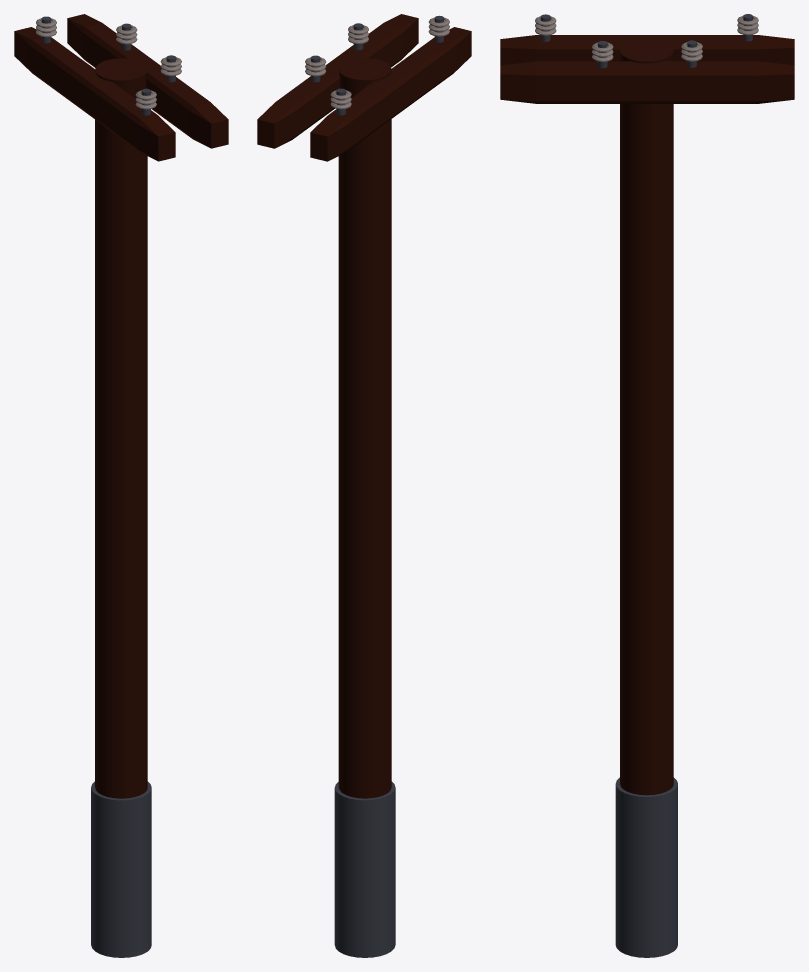
Rendered from PowerPole1.obj.
The picture shows the model from 3 angles, left to right: view 1: azimuth 30°, elevation 25°; view 2: azimuth 150°, elevation 25°; view 3: azimuth 270°, elevation 25°; orthographic projection. The views are drawn at different scales.
Visible parts, largest first — view 1: mergedBlocks; view 2: mergedBlocks; view 3: mergedBlocks.
Part boxes in pixels (box(x1,y1,x2,y2)): mergedBlocks: box(14, 14, 228, 957); mergedBlocks: box(257, 14, 471, 957); mergedBlocks: box(500, 14, 794, 957).
Bounding box in the file's own units: 0.832 × 9.39 × 2.73.
